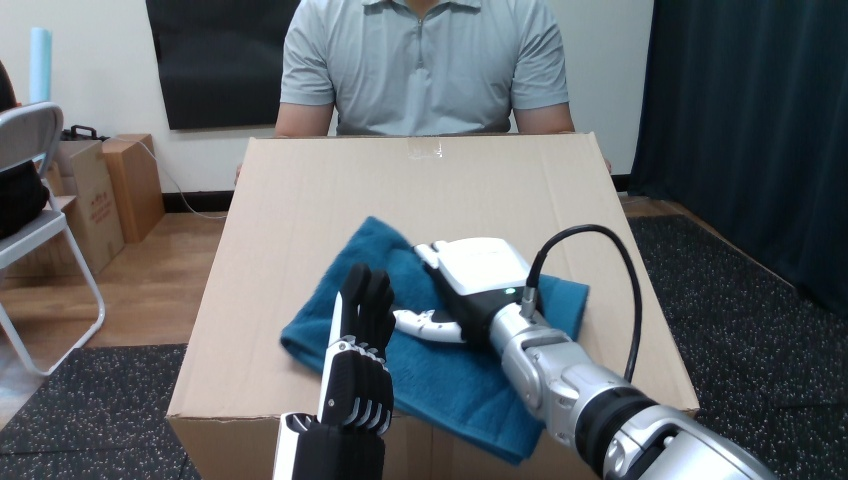left robot hand: (393, 225, 774, 479), (273, 263, 394, 479), (536, 231, 635, 377)
